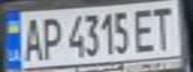1: (100, 9, 118, 55)
3: (81, 10, 103, 57)
4: (63, 11, 84, 60)
5: (112, 8, 133, 54)
A: (18, 14, 45, 62)
E: (130, 5, 160, 53)
P: (36, 14, 63, 61)
T: (148, 2, 181, 52)
